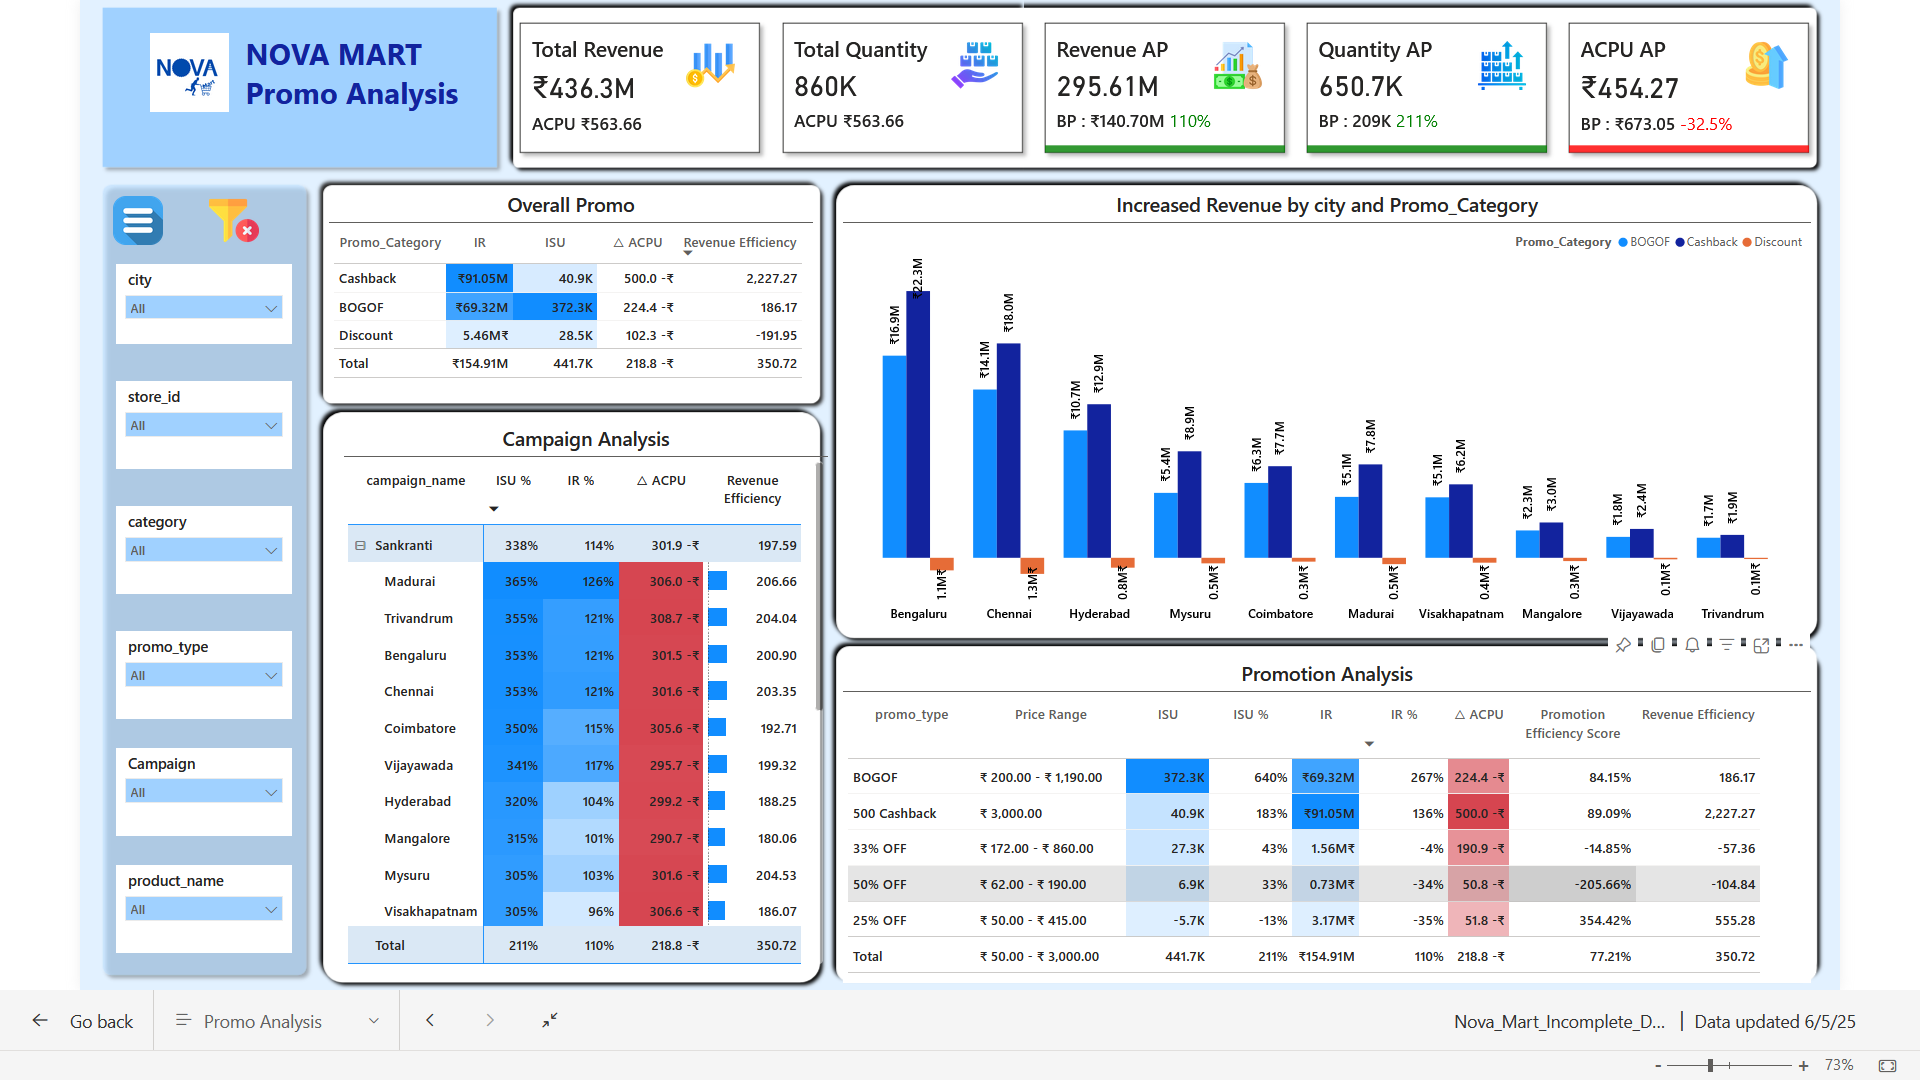

The dashboard page shown, as its layout file describes it:
{"tool":"powerbi","page":{"name":"Promo Analysis","canvas":[1920,1080],"ordinal":3},"visuals":[{"type":"cardVisual","fields":{"Data":["Measures (2).Total Revenue","Measures (2).Total Quantity","Measures (2).Revenue_After_Promo","Measures (2).Sold_QTY_After_Promo","Measures (2).Average Cost Per Unit After"]},"box":[464,8,1440,176],"z":0,"group":"g1"},{"type":"shape","title":"Border","box":[16,192,240,880],"z":0},{"type":"shape","title":"Border","box":[464,0,1440,192],"z":1000},{"type":"image","box":[1808,40,64,64],"z":1000,"group":"g1"},{"type":"image","box":[1520,40,64,64],"z":2000,"group":"g1"},{"type":"shape","title":"Border","box":[256,192,560,256],"z":2000},{"type":"image","box":[944,40,64,64],"z":3000,"group":"g1"},{"type":"shape","title":"Border","box":[816,192,1088,512],"z":3000},{"type":"image","box":[656,40,64,64],"z":4000,"group":"g1"},{"type":"shape","title":"Border","box":[816,704,1088,368],"z":4000},{"type":"image","box":[1232,40,64,64],"z":5000,"group":"g1"},{"type":"slicer","fields":{"Values":["dim_stores.store_id"]},"box":[40,416,192,96],"z":5000},{"type":"slicer","fields":{"Values":["dim_stores.city"]},"box":[40,288,192,88],"z":6000},{"type":"slicer","fields":{"Values":["dim_products.category"]},"box":[40,552,192,96],"z":7000},{"type":"slicer","fields":{"Values":["fact_events.promo_type"]},"box":[40,688,192,96],"z":8000},{"type":"slicer","fields":{"Values":["dim_campaigns.campaign_name"]},"box":[40,816,192,96],"z":9000},{"type":"slicer","fields":{"Values":["dim_products.product_name"]},"box":[40,944,192,96],"z":10000},{"type":"shape","title":"Border","box":[256,440,560,640],"z":11000},{"type":"shape","box":[16,0,448,192],"z":12000},{"type":"image","box":[48,32,144,96],"z":13000},{"type":"textbox","box":[176,32,304,96],"z":14000},{"type":"image","box":[32,208,64,64],"z":15000},{"type":"shape","title":"Border","box":[816,192,1088,512],"z":16000},{"type":"clusteredColumnChart","title":"Increased Revenue  by city and Promo_Category","fields":{"Category":["dim_stores.city"],"Y":["Measures (2).IR"],"Series":["fact_events.Promo_Category"]},"box":[832,208,1056,480],"z":17000},{"type":"shape","title":"Border","box":[464,0,1440,192],"z":18000},{"type":"group","id":"g1","title":"Group 1","box":[464,8,1440,176],"z":19000},{"type":"shape","title":"Border","box":[816,696,1088,384],"z":20000},{"type":"tableEx","title":"Promotion Analysis","fields":{"Values":["fact_events.promo_type","Measures (2).Price Range by Promo Type","Measures (2).ISU","Measures (2).ISU %","Measures (2).IR","Measures (2).IR %","Measures (2).△ ACPU","Measures (2).Promotion Efficiency Score","Measures (2).Revenue Efficiency"]},"box":[832,720,1056,352],"z":21000},{"type":"shape","title":"Border","box":[256,192,560,256],"z":22000},{"type":"shape","title":"Border","box":[256,440,560,640],"z":23000},{"type":"pivotTable","title":"Campaign Analysis","fields":{"Rows":["dim_campaigns.campaign_name","dim_stores.city"],"Values":["Measures (2).ISU %","Measures (2).IR %","Measures (2).△ ACPU","Measures (2).Revenue Efficiency"]},"box":[288,464,528,592],"z":24000},{"type":"tableEx","title":"Overall Promo","fields":{"Values":["fact_events.Promo_Category","Measures (2).IR","Measures (2).ISU","Measures (2).△ ACPU","Measures (2).Revenue Efficiency"]},"box":[272,208,528,224],"z":25000},{"type":"image","box":[128,208,80,64],"z":26000}]}

Visuals, with their boxes on the page's 1920x1080 design canvas (x1, y1, x2, y2). These are canvas units, not pixel positions in the 1920x1080 screenshot, which may show the page scaled, cropped or inside an application window:
cardVisual - Measures (2).Total Revenue x Measures (2).Total Quantity: x1=464, y1=8, x2=1904, y2=184
"Border" shape: x1=16, y1=192, x2=256, y2=1072
"Border" shape: x1=464, y1=0, x2=1904, y2=192
image: x1=1808, y1=40, x2=1872, y2=104
image: x1=1520, y1=40, x2=1584, y2=104
"Border" shape: x1=256, y1=192, x2=816, y2=448
image: x1=944, y1=40, x2=1008, y2=104
"Border" shape: x1=816, y1=192, x2=1904, y2=704
image: x1=656, y1=40, x2=720, y2=104
"Border" shape: x1=816, y1=704, x2=1904, y2=1072
image: x1=1232, y1=40, x2=1296, y2=104
slicer - dim_stores.store_id: x1=40, y1=416, x2=232, y2=512
slicer - dim_stores.city: x1=40, y1=288, x2=232, y2=376
slicer - dim_products.category: x1=40, y1=552, x2=232, y2=648
slicer - fact_events.promo_type: x1=40, y1=688, x2=232, y2=784
slicer - dim_campaigns.campaign_name: x1=40, y1=816, x2=232, y2=912
slicer - dim_products.product_name: x1=40, y1=944, x2=232, y2=1040
"Border" shape: x1=256, y1=440, x2=816, y2=1080
shape: x1=16, y1=0, x2=464, y2=192
image: x1=48, y1=32, x2=192, y2=128
textbox: x1=176, y1=32, x2=480, y2=128
image: x1=32, y1=208, x2=96, y2=272
"Border" shape: x1=816, y1=192, x2=1904, y2=704
"Increased Revenue  by city and Promo_Category" clusteredColumnChart: x1=832, y1=208, x2=1888, y2=688
"Border" shape: x1=464, y1=0, x2=1904, y2=192
"Group 1" group: x1=464, y1=8, x2=1904, y2=184
"Border" shape: x1=816, y1=696, x2=1904, y2=1080
"Promotion Analysis" tableEx: x1=832, y1=720, x2=1888, y2=1072
"Border" shape: x1=256, y1=192, x2=816, y2=448
"Border" shape: x1=256, y1=440, x2=816, y2=1080
"Campaign Analysis" pivotTable: x1=288, y1=464, x2=816, y2=1056
"Overall Promo" tableEx: x1=272, y1=208, x2=800, y2=432
image: x1=128, y1=208, x2=208, y2=272
